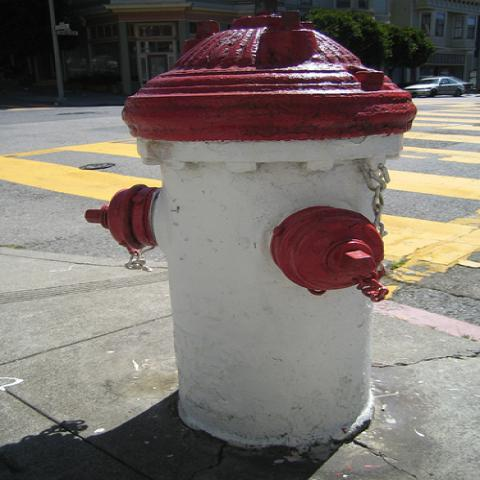car: (404, 76, 466, 98), (450, 77, 477, 94)
